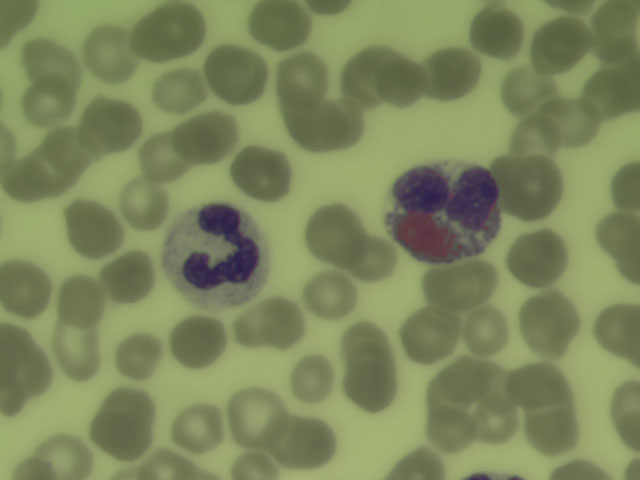RBC: (500, 156, 570, 222), (514, 292, 580, 361), (228, 387, 294, 451), (505, 227, 573, 287), (523, 397, 588, 451), (306, 205, 365, 264), (232, 145, 295, 200), (88, 412, 157, 462), (84, 26, 144, 83), (62, 200, 124, 254), (501, 364, 572, 411), (576, 72, 640, 124), (370, 47, 427, 105), (248, 1, 311, 52), (46, 322, 103, 378), (467, 10, 531, 59), (291, 411, 343, 470), (590, 1, 640, 62), (171, 313, 227, 367), (349, 352, 399, 412), (2, 260, 54, 317), (82, 98, 141, 148), (592, 305, 640, 366), (288, 107, 350, 154), (35, 433, 96, 480), (116, 175, 172, 226), (402, 313, 454, 367), (301, 272, 360, 318), (530, 18, 584, 67), (21, 77, 78, 123), (422, 410, 481, 453), (159, 5, 209, 55), (430, 48, 481, 97), (508, 112, 559, 161), (57, 275, 110, 322), (547, 99, 603, 143), (4, 345, 53, 395), (420, 372, 470, 421), (384, 444, 451, 480), (499, 70, 555, 113), (277, 54, 326, 103), (589, 210, 640, 257), (289, 355, 337, 404), (189, 110, 239, 157), (171, 407, 224, 451), (104, 386, 158, 429), (338, 54, 375, 116), (22, 42, 76, 84), (265, 294, 307, 348), (137, 133, 185, 180), (107, 250, 154, 298), (44, 129, 94, 174), (266, 414, 306, 467), (467, 304, 509, 354), (356, 231, 397, 282), (154, 70, 206, 110), (324, 94, 367, 142), (422, 267, 472, 308), (476, 361, 522, 405), (440, 361, 489, 402), (30, 151, 75, 195), (476, 397, 519, 443), (201, 45, 248, 87), (118, 333, 159, 380), (457, 259, 501, 301), (344, 324, 391, 362), (134, 21, 175, 64), (173, 121, 211, 167), (233, 53, 269, 101), (1, 324, 34, 372), (547, 456, 611, 480), (1, 1, 42, 38), (608, 164, 640, 211), (609, 376, 640, 424), (6, 158, 42, 199), (232, 450, 280, 480), (603, 414, 640, 451), (235, 304, 267, 345), (146, 452, 192, 480), (13, 459, 53, 480)
WBC: (387, 161, 498, 255), (171, 199, 272, 300)
